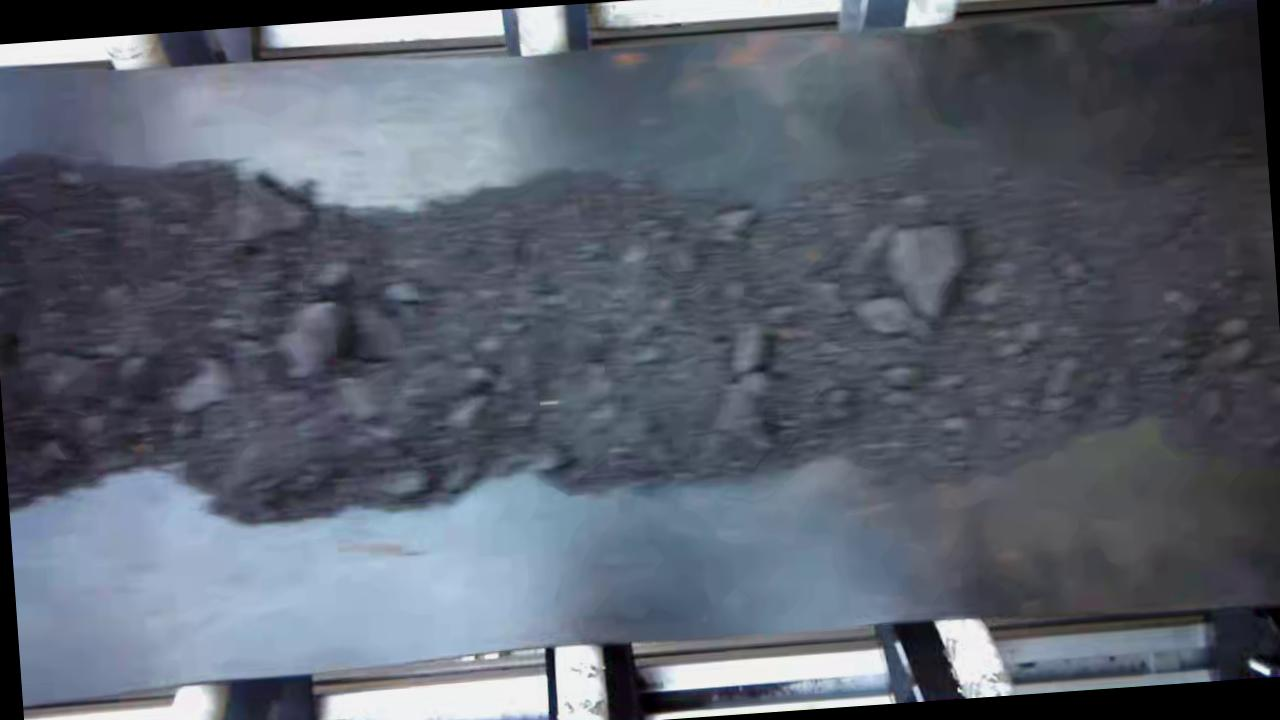conveyor: (0, 7, 1280, 679)
